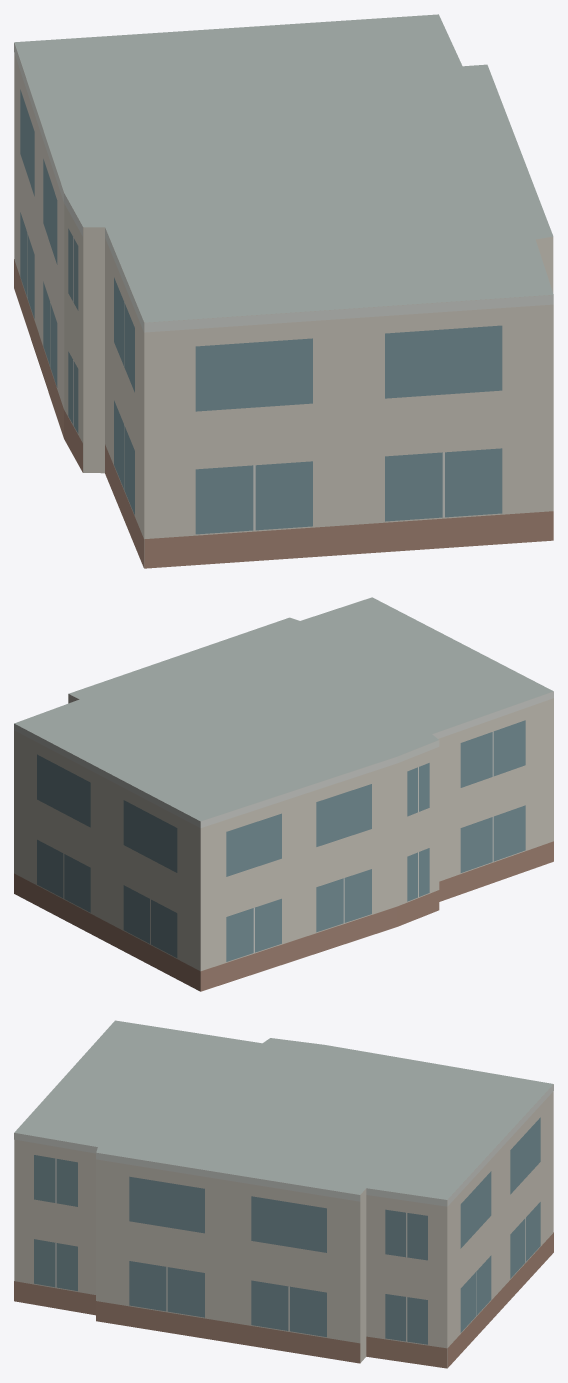
File: survey-upis-32675962.glb
The picture shows the model from 3 angles, top to bottom: view 1: azimuth 30°, elevation 25°; view 2: azimuth 150°, elevation 25°; view 3: azimuth 270°, elevation 25°; orthographic projection. The views are drawn at different scales.
Visible parts, largest first — view 1: survey-upis-32675962.tmp; view 2: survey-upis-32675962.tmp; view 3: survey-upis-32675962.tmp.
Part boxes in pixels (x1=…): survey-upis-32675962.tmp: x1=14, y1=14, x2=553, y2=568; survey-upis-32675962.tmp: x1=14, y1=597, x2=553, y2=991; survey-upis-32675962.tmp: x1=14, y1=1020, x2=553, y2=1368.
Bounding box in the file's own units: 13.96 × 6.1 × 17.72.
